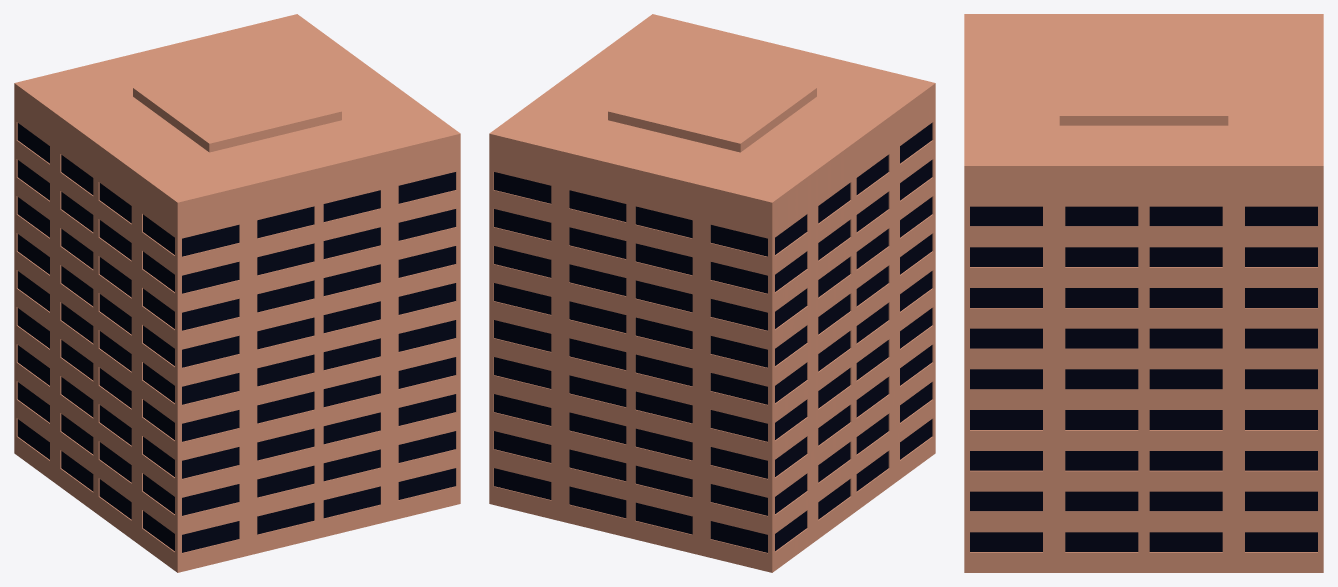
3 renders of one model, left to right at view 1: azimuth 30°, elevation 25°; view 2: azimuth 150°, elevation 25°; view 3: azimuth 270°, elevation 25°, orthographic. The views are drawn at different scales.
Parts seen in each view (by area): view 1: Cube.035; view 2: Cube.035; view 3: Cube.035.
Boxes of the visible parts, <box> form: Cube.035: <box>14,14,460,572</box>; Cube.035: <box>489,14,935,572</box>; Cube.035: <box>964,14,1323,572</box>.
Bounding box in the file's own units: 400 × 512 × 400.
